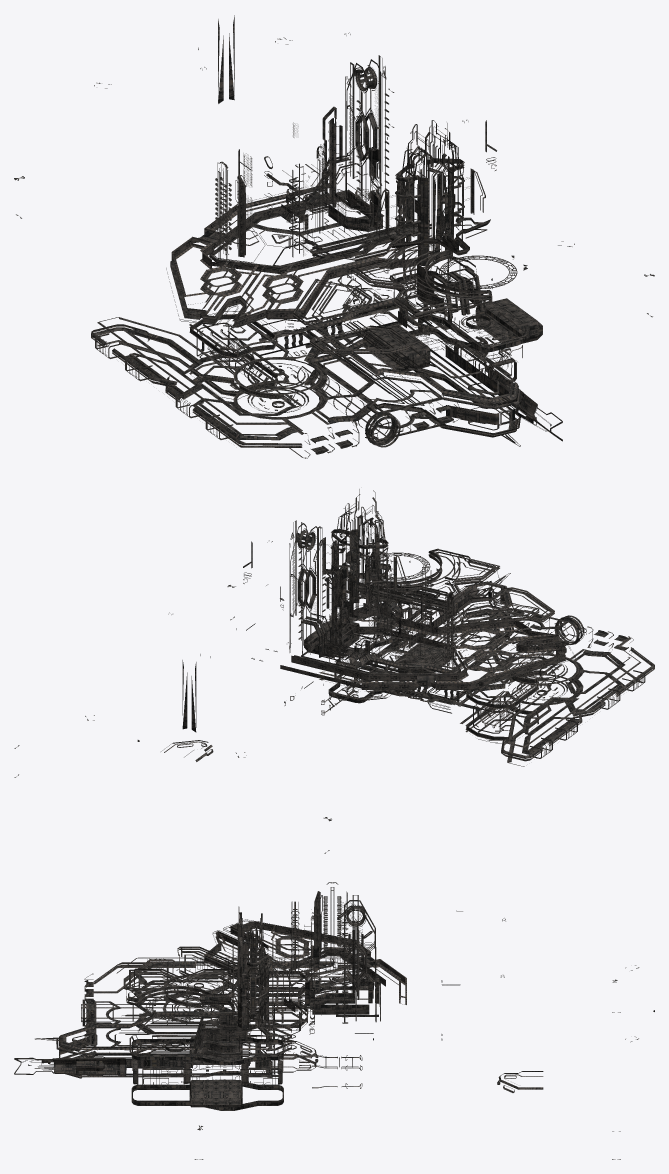
3 renders of one model, top to bottom at view 1: azimuth 30°, elevation 25°; view 2: azimuth 150°, elevation 25°; view 3: azimuth 270°, elevation 25°, orthographic. The views are drawn at different scales.
Parts seen in each view (by area): view 1: _gltfNode_0.001; view 2: _gltfNode_0.001; view 3: _gltfNode_0.001.
Part boxes in pixels (x1,y1,x2,y2): _gltfNode_0.001: (14, 15, 654, 458); _gltfNode_0.001: (14, 489, 654, 853); _gltfNode_0.001: (14, 882, 654, 1159).
Size of the model in its own units: 7.77 by 3.88 by 11.42.
1 material, 1 textured.
